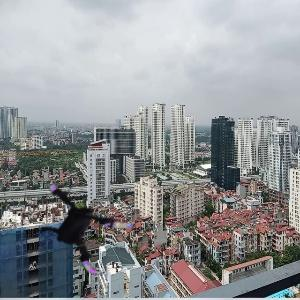drone: (21, 166, 138, 283)
